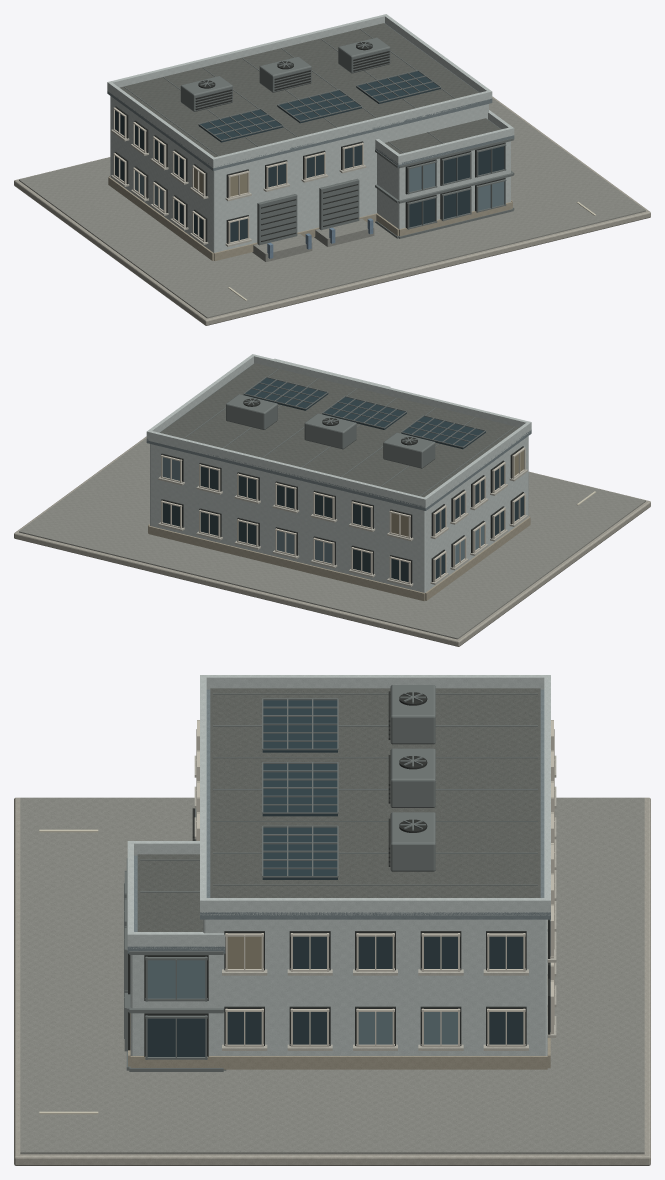
Rendered from EXP_FACTORY_TECH.glb.
3 views of the same model, one above another, from view 1: azimuth 30°, elevation 25°; view 2: azimuth 150°, elevation 25°; view 3: azimuth 270°, elevation 25° (orthographic). The views are drawn at different scales.
Visible parts, largest first — view 1: EXP_FACTORY_TECH_Visual; view 2: EXP_FACTORY_TECH_Visual; view 3: EXP_FACTORY_TECH_Visual.
Boxes of the visible parts, x1,y1,x2,y2 form: EXP_FACTORY_TECH_Visual: (14, 14, 650, 325); EXP_FACTORY_TECH_Visual: (14, 354, 650, 646); EXP_FACTORY_TECH_Visual: (14, 675, 650, 1165).
Size of what is drawn, in the model's own units: 7.92 by 2.13 by 5.92.
Materials: 15 (8 with a texture image).
